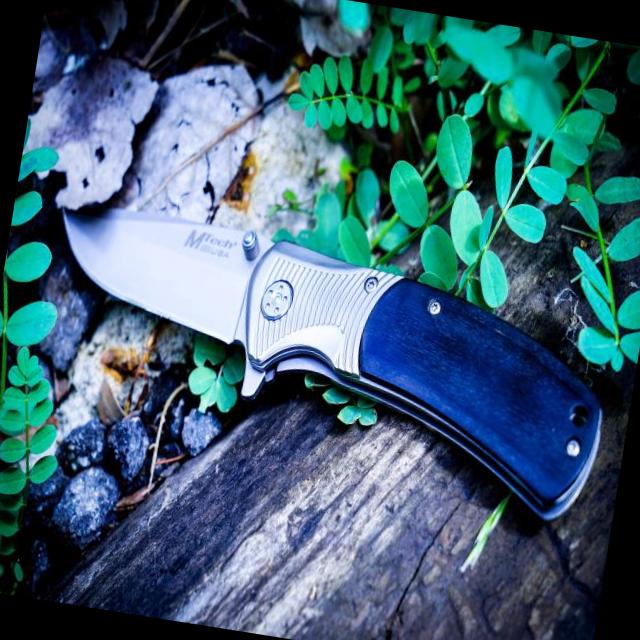Knife: (59, 210, 604, 523)
